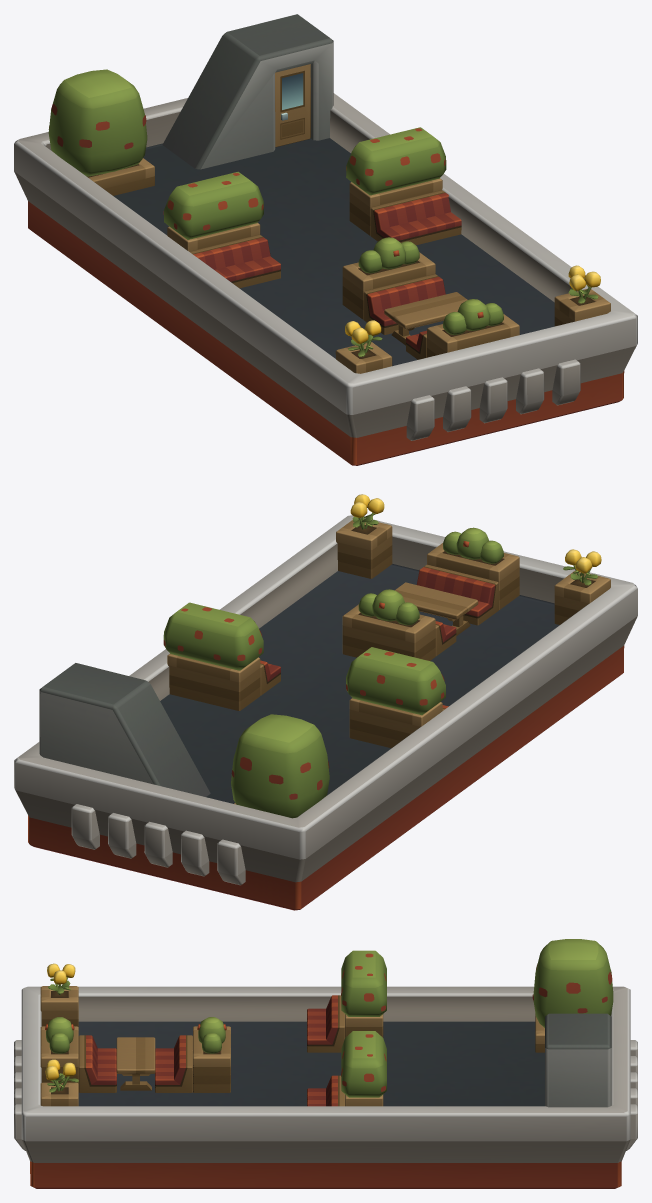
Rendered from office_building_type2_roof_red_deco.fbx.
3 renders of one model, top to bottom at view 1: azimuth 30°, elevation 25°; view 2: azimuth 150°, elevation 25°; view 3: azimuth 270°, elevation 25°, orthographic. The views are drawn at different scales.
Parts seen in each view (by area): view 1: office_building_type2_roof_red_deco, door_office_building_type2_roof_red_deco; view 2: office_building_type2_roof_red_deco; view 3: office_building_type2_roof_red_deco.
Boxes of the visible parts, x1,y1,x2,y2 form: office_building_type2_roof_red_deco: (14, 14, 637, 465); door_office_building_type2_roof_red_deco: (275, 64, 310, 147); office_building_type2_roof_red_deco: (14, 494, 637, 910); office_building_type2_roof_red_deco: (14, 939, 637, 1188).
Bounding box in the file's own units: 800 × 413 × 1640.
